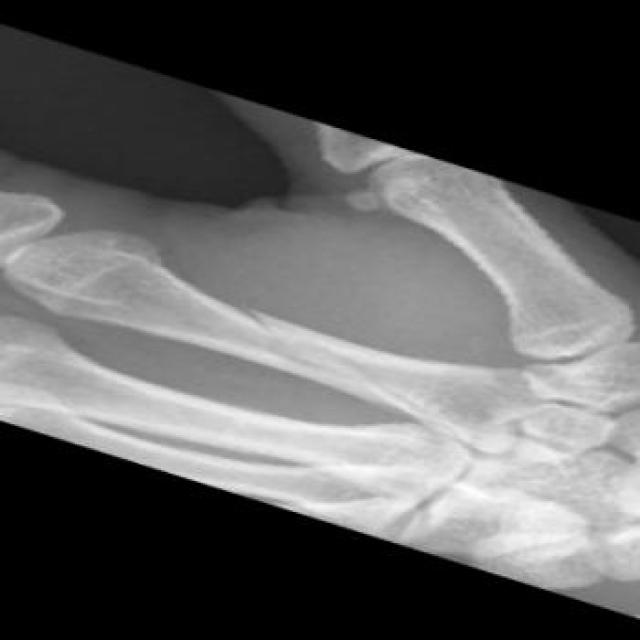Fracture: (230, 295, 302, 350)
